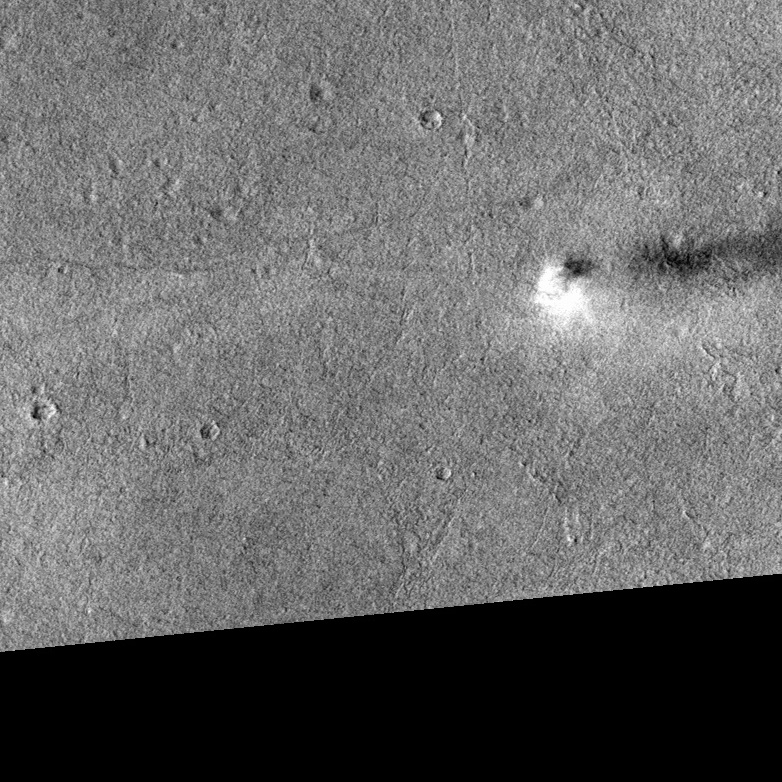dust_devil: (529, 217, 782, 338)
